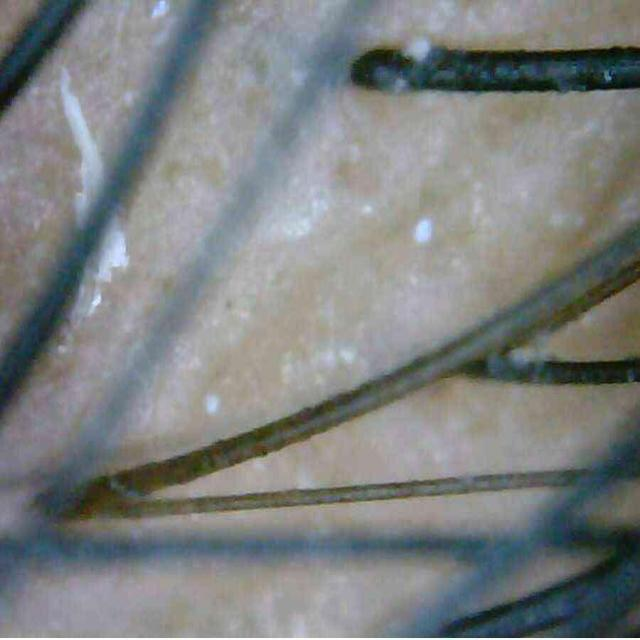d: (59, 59, 108, 231), (73, 211, 135, 321), (404, 36, 431, 61), (414, 218, 432, 243), (205, 393, 220, 415), (151, 0, 170, 17)
